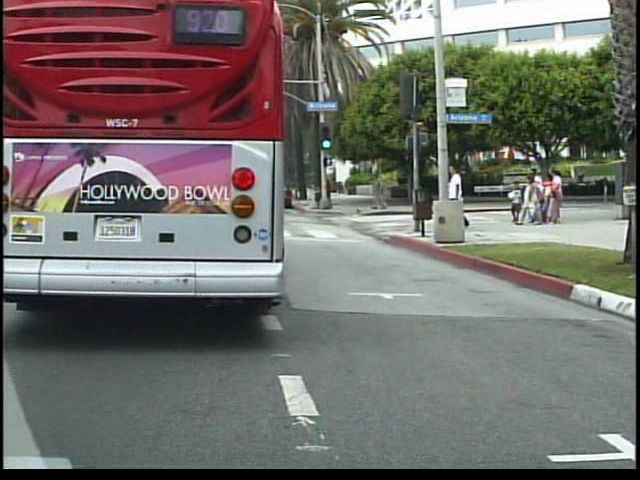person: (444, 161, 471, 233), (443, 171, 466, 230), (372, 172, 392, 213)
